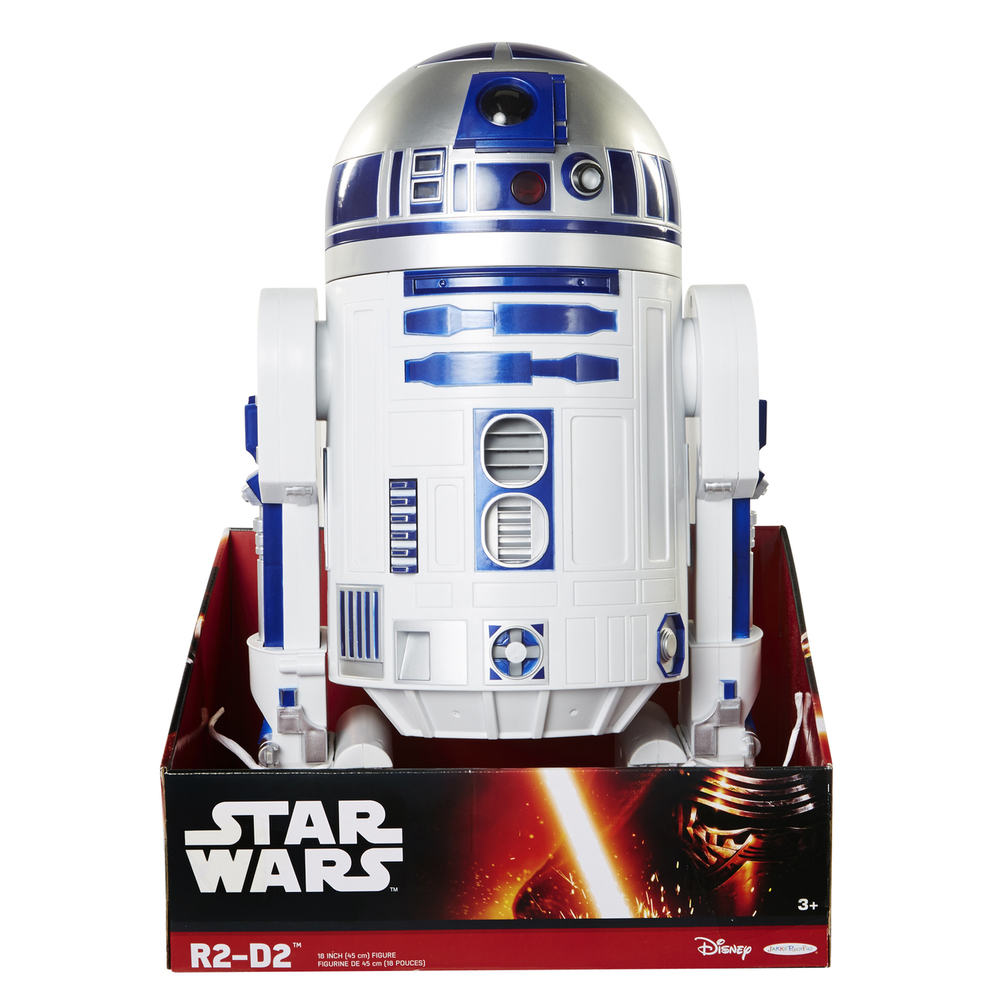r2d2: (235, 41, 762, 755)
